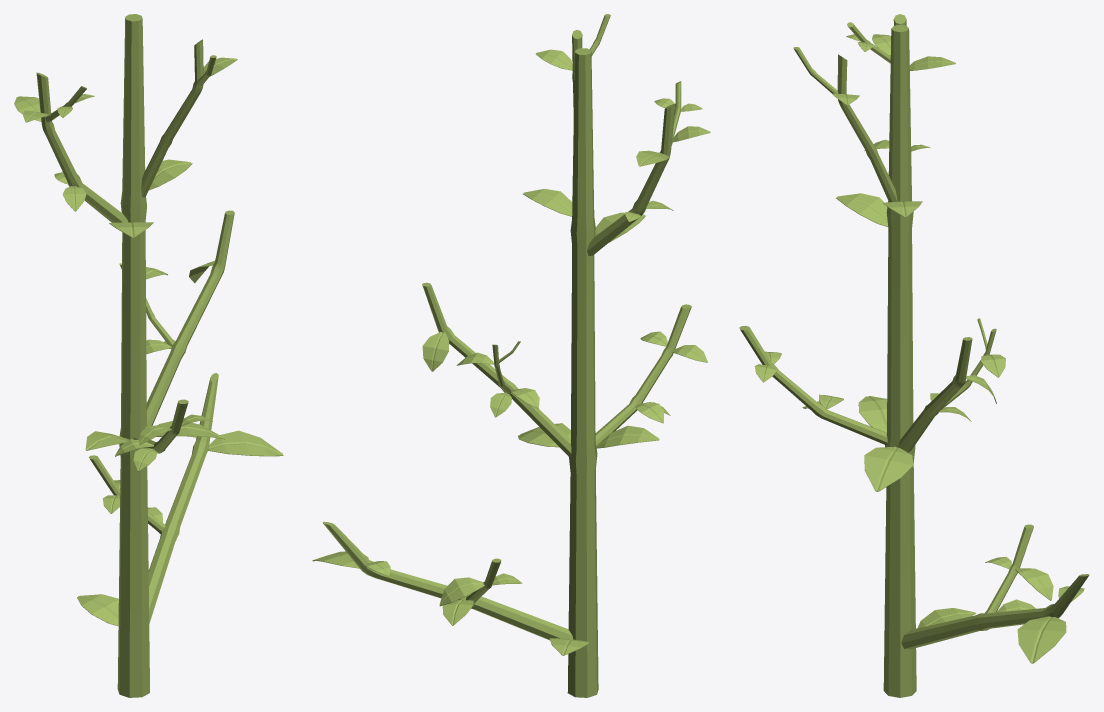
The model's file is broken_wildparsnip_1.fbx.
The picture shows the model from 3 angles, left to right: view 1: azimuth 30°, elevation 25°; view 2: azimuth 150°, elevation 25°; view 3: azimuth 270°, elevation 25°; orthographic projection. The views are drawn at different scales.
Visible parts, largest first — view 1: WildParsnip2_branch_3point2; view 2: WildParsnip2_branch_3point2; view 3: WildParsnip2_branch_3point2.
Part boxes in pixels (x1,y1,x2,y2): WildParsnip2_branch_3point2: (14,14,283,697); WildParsnip2_branch_3point2: (312,14,710,697); WildParsnip2_branch_3point2: (739,14,1089,697).
Size of the model in its own units: 3.55 by 6.76 by 3.24.
